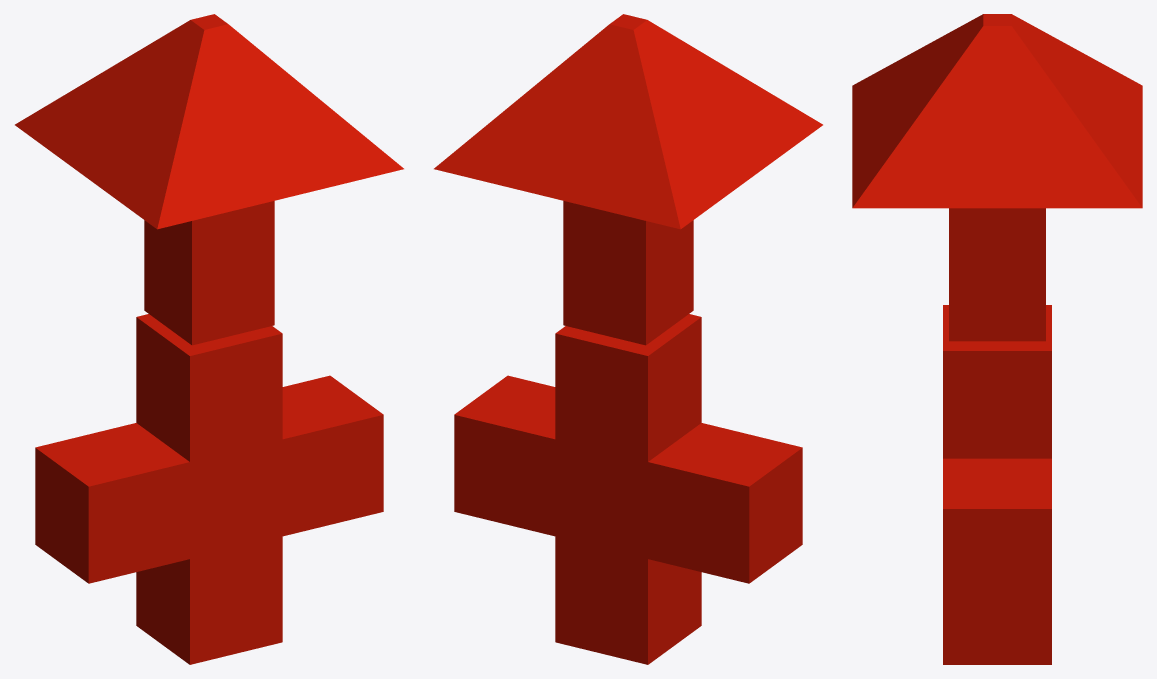
File: HealthMaxIncrease01.dae
The picture shows the model from 3 angles, left to right: view 1: azimuth 30°, elevation 25°; view 2: azimuth 150°, elevation 25°; view 3: azimuth 270°, elevation 25°; orthographic projection.
Parts seen in each view (by area): view 1: Cube; view 2: Cube; view 3: Cube.
Boxes of the visible parts, x1,y1,x2,y2 form: Cube: [15, 14, 403, 664]; Cube: [434, 14, 822, 664]; Cube: [852, 14, 1142, 664].
Bounding box in the file's own units: 0.6362 × 0.5332 × 1.26.
